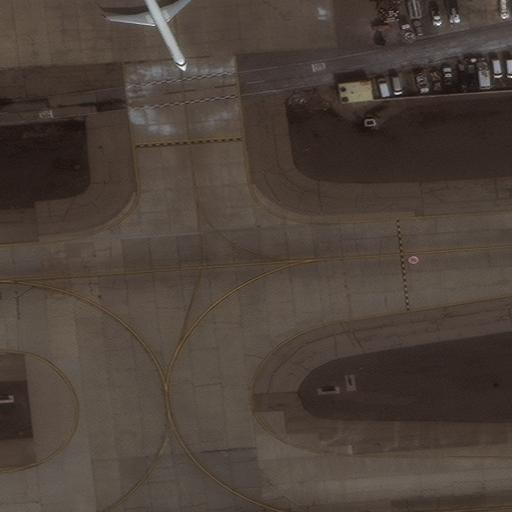Medium Civil Transport: (106, 0, 200, 71)
